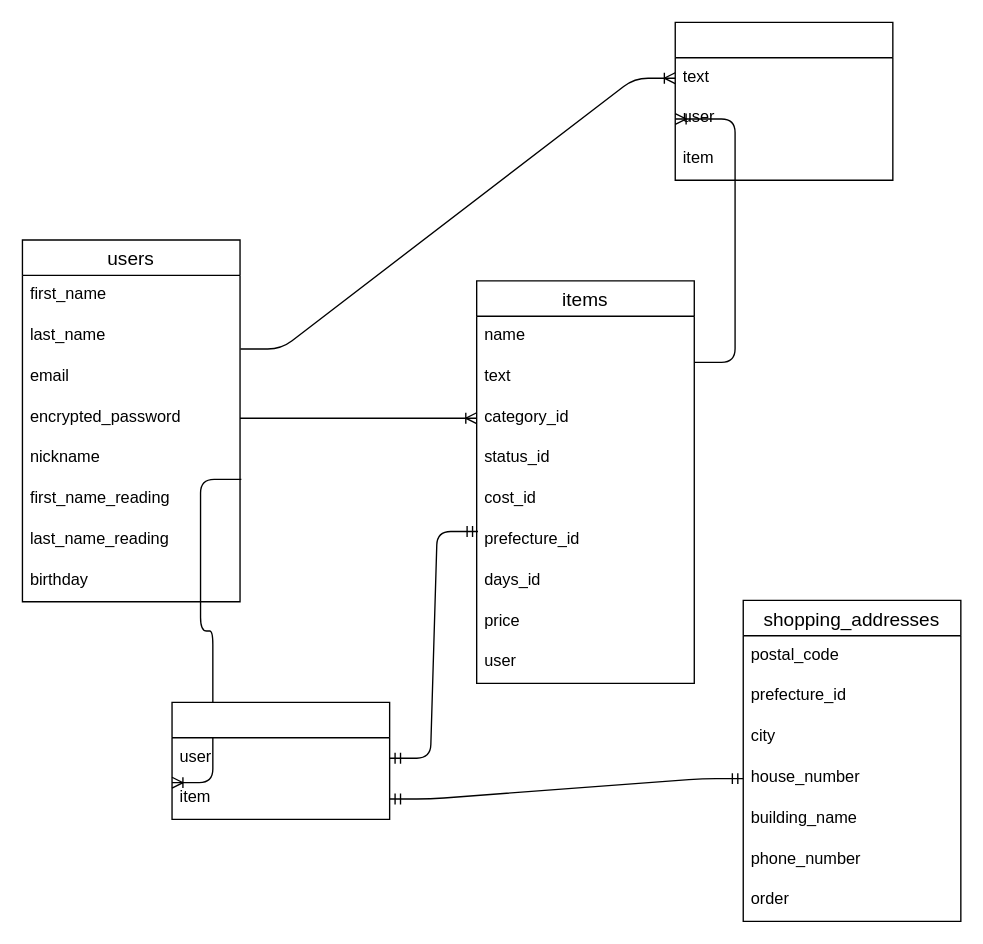
This 983x944 diagram has some shape labels left out. The box of each missing label's shape, as (x1, y1, x2, y2) in pixels:
messages: (674, 21, 893, 180)
orders: (171, 701, 390, 819)
